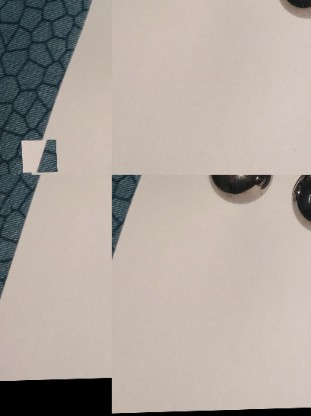ironball: (204, 175, 273, 201), (287, 173, 309, 241), (276, 0, 309, 20)
